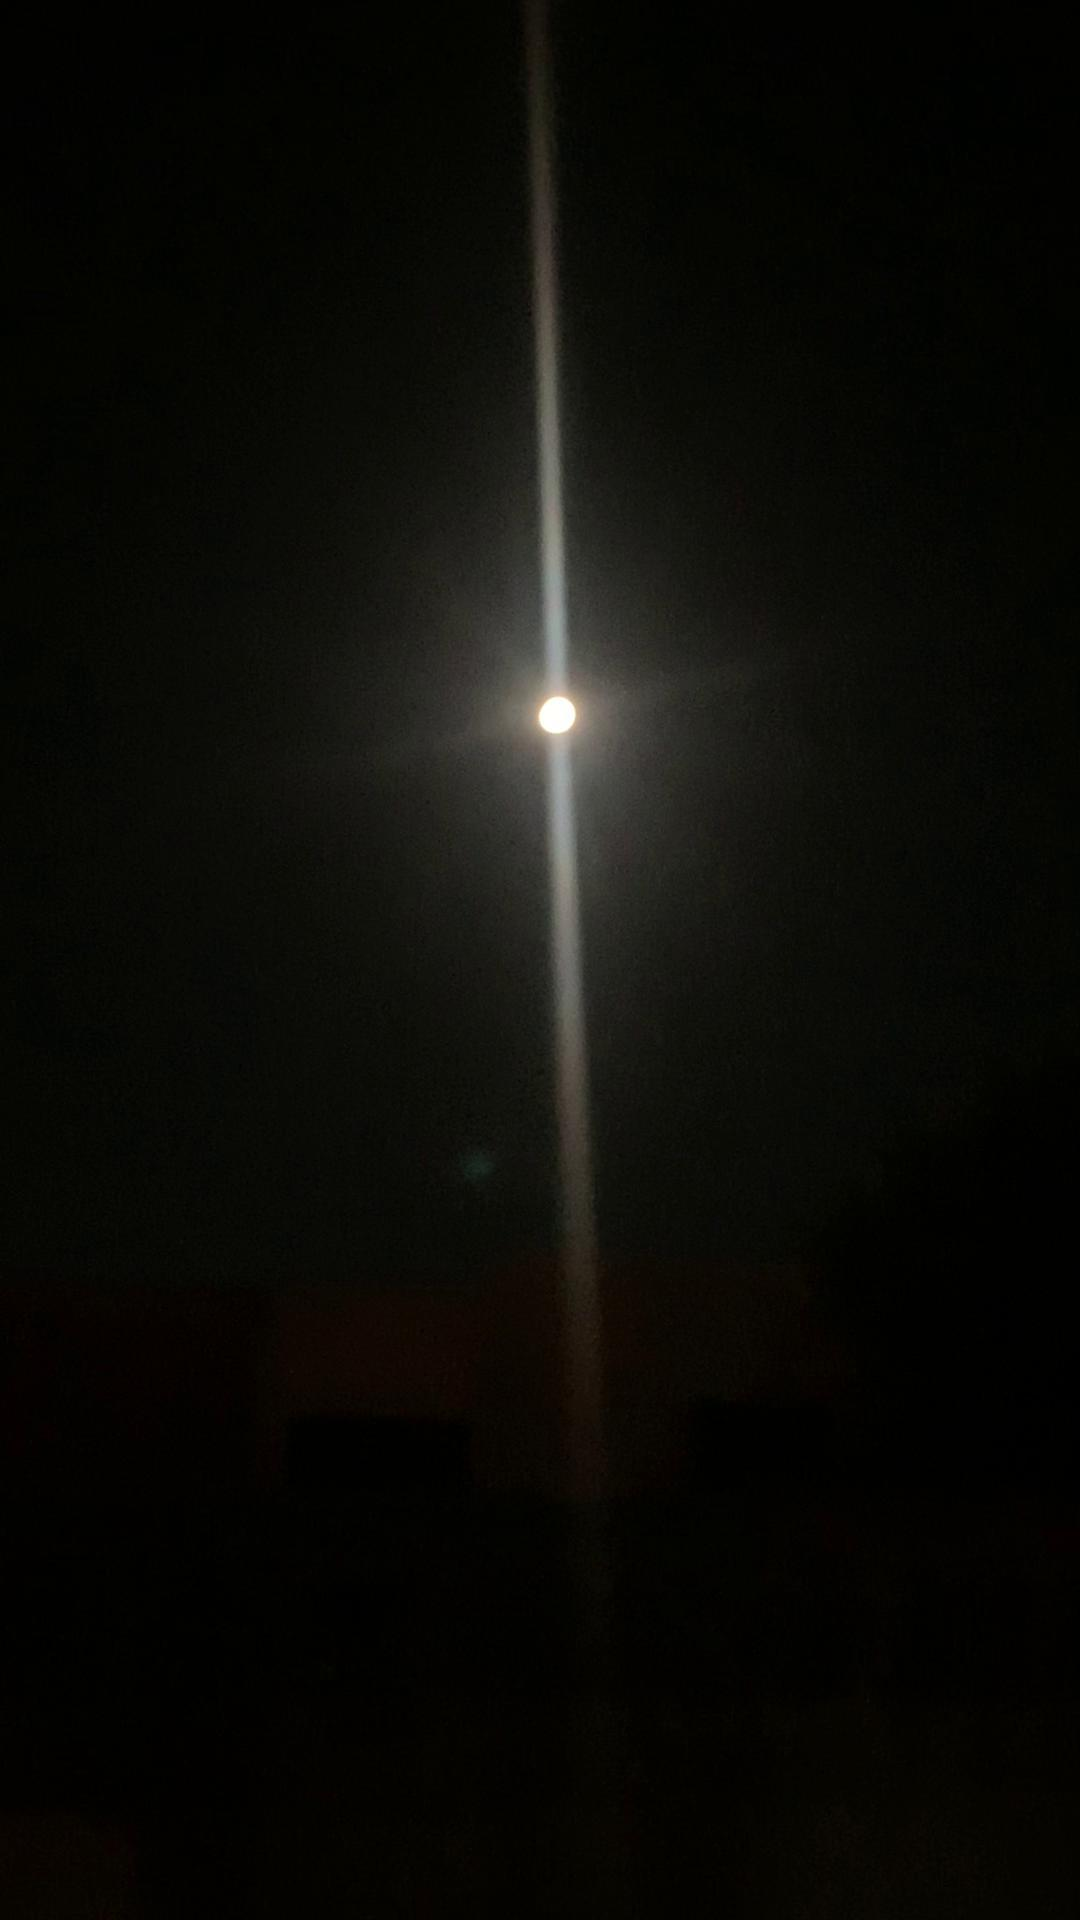moon: (514, 665, 622, 764)
